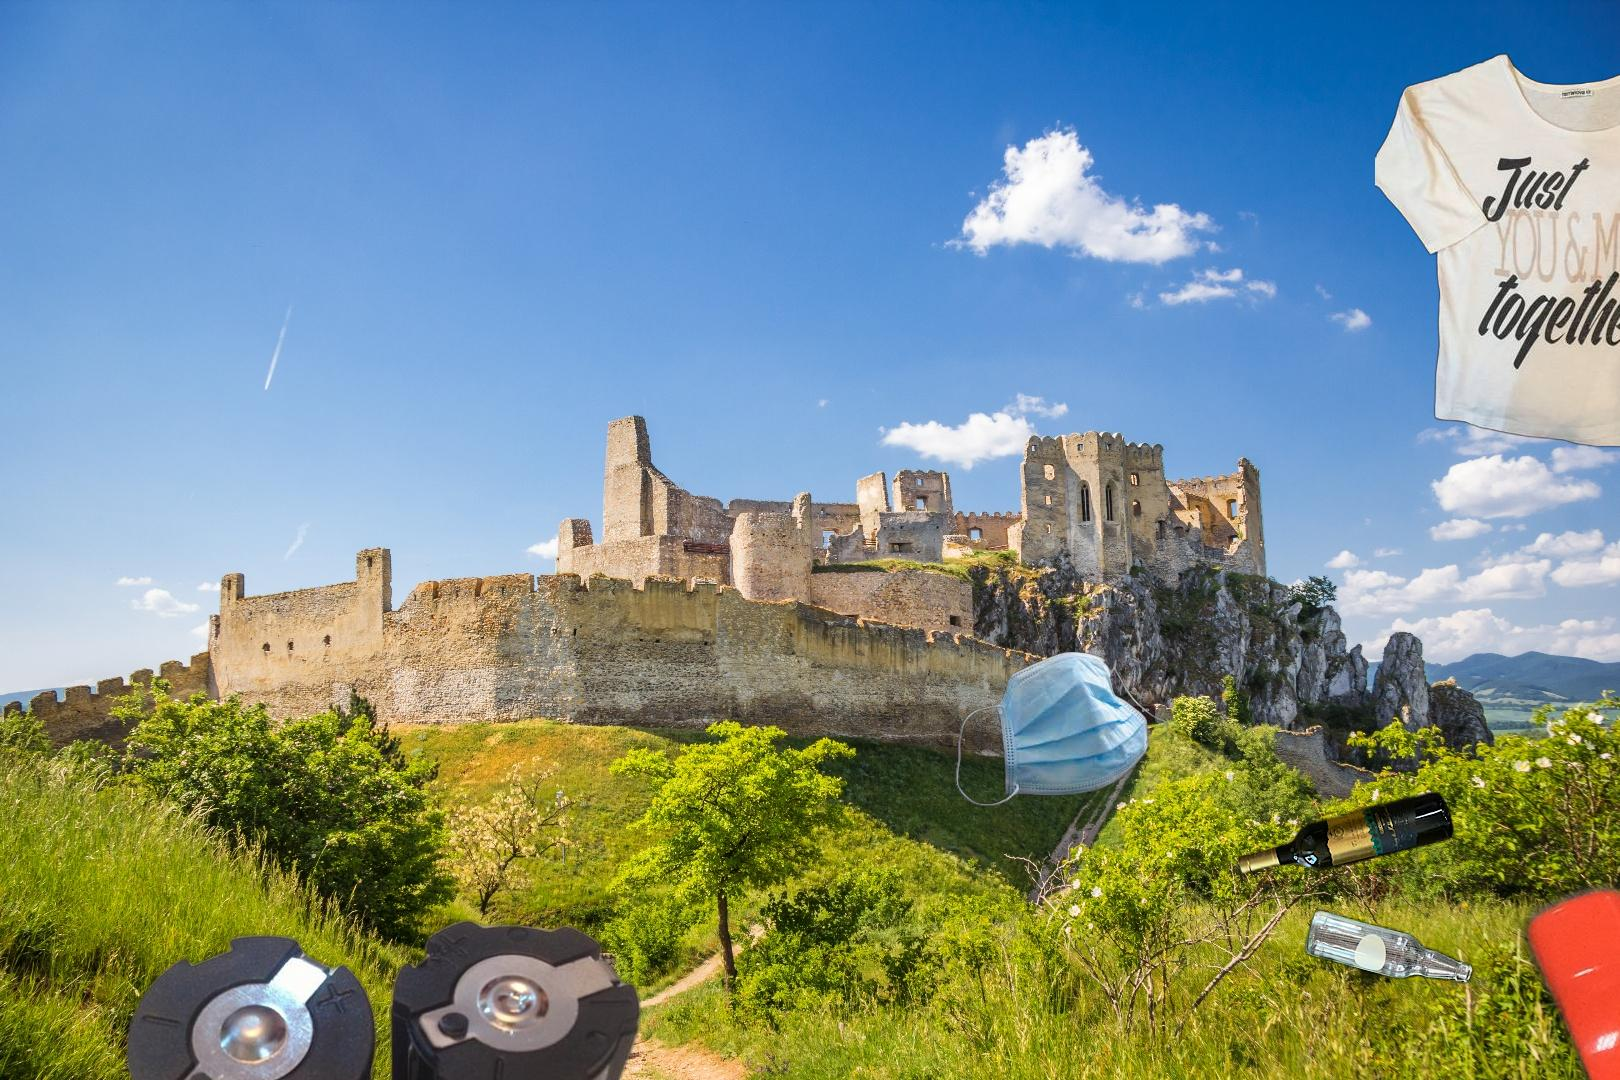battery: (119, 912, 648, 1080)
clothes: (1375, 45, 1620, 450)
glass: (1301, 903, 1598, 1080), (1234, 786, 1457, 880)
penholder: (1507, 695, 1620, 1080)
trash: (953, 648, 1170, 809)
